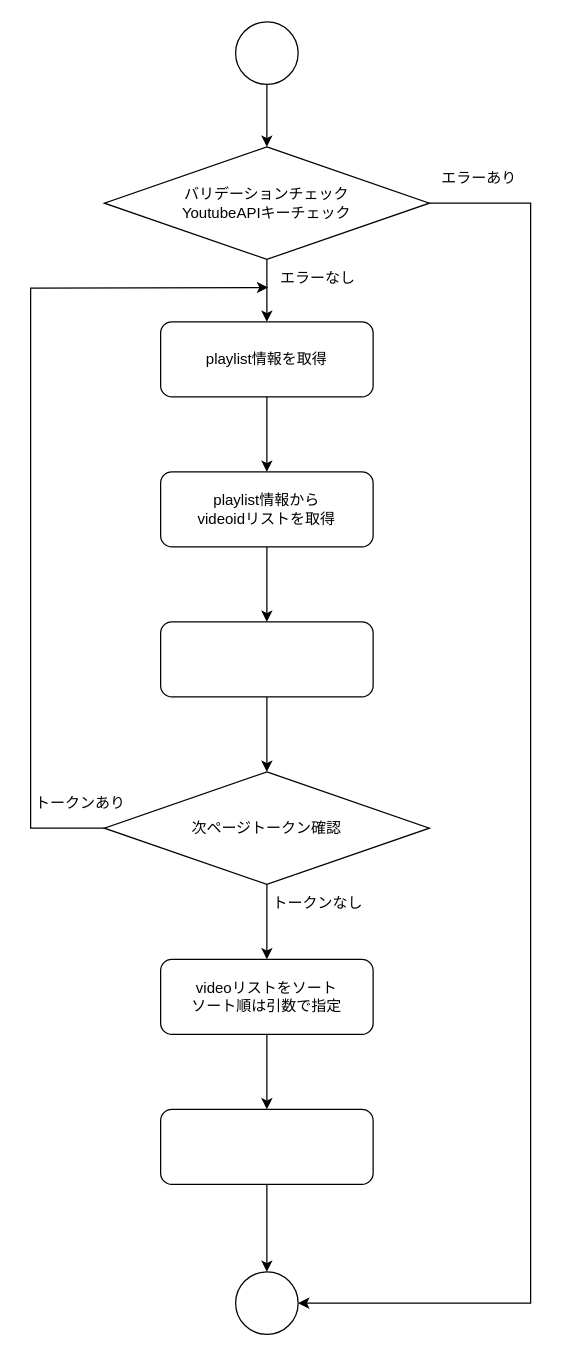
This 563x1356 diagram has some shape labels left out. The shapes that lost their labels are listed below. From the top down, each one's centre as x and y in pixels, then its label:
At point 266,659: "video情報を取得".
At point 266,1146: "ファイル出力".
